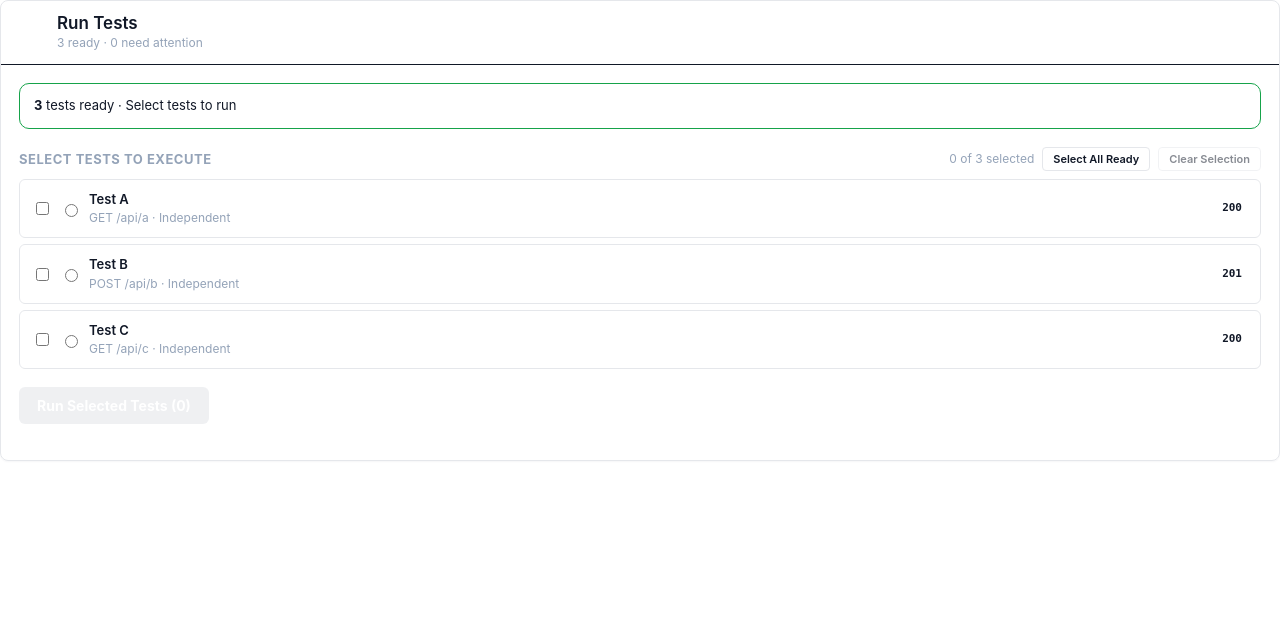
Test case: ExecutionPanel — STEP 6.4D Batch Execution Validation › Selection › Select All Ready works
The width and height of the screenshot is (1280, 637).
Click the radio button next to "Test A".
click(72, 210)  # box [65,204,78,216]
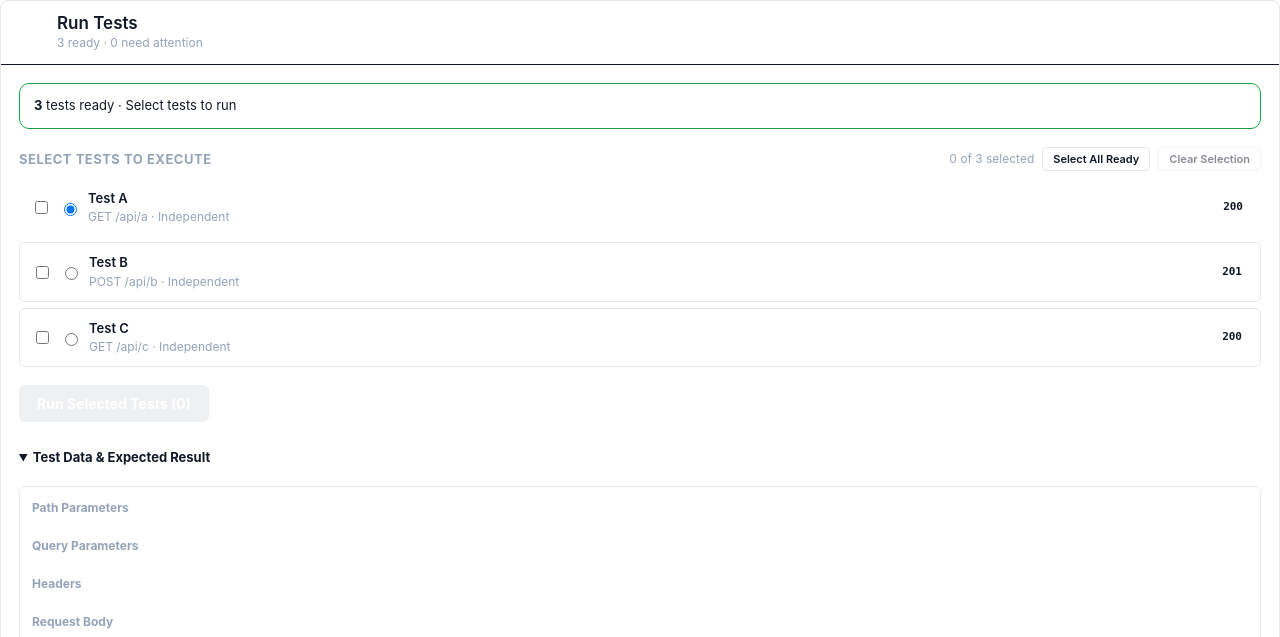
Now the heading "Test Data & Expected Result" is shown, box [33,449,210,465]
Click the button "Select All Ready".
click(1096, 159)  # box [1042,147,1150,171]
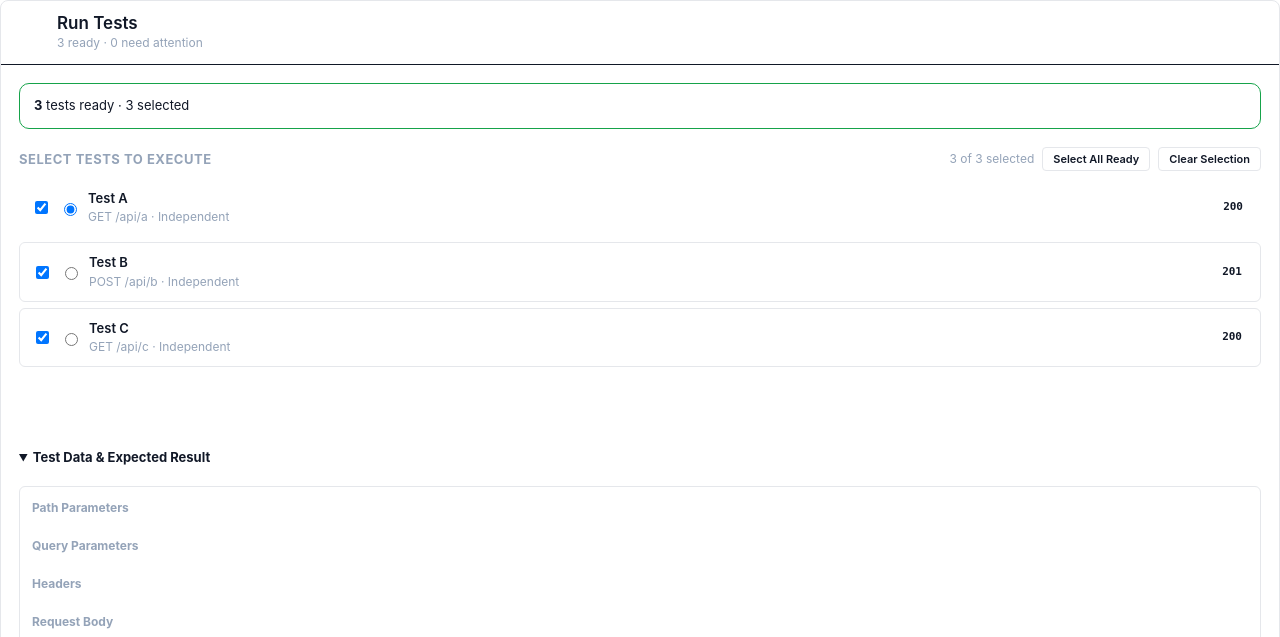
Now the text "3 of 3 selected" is shown, box [949,150,1034,168]
